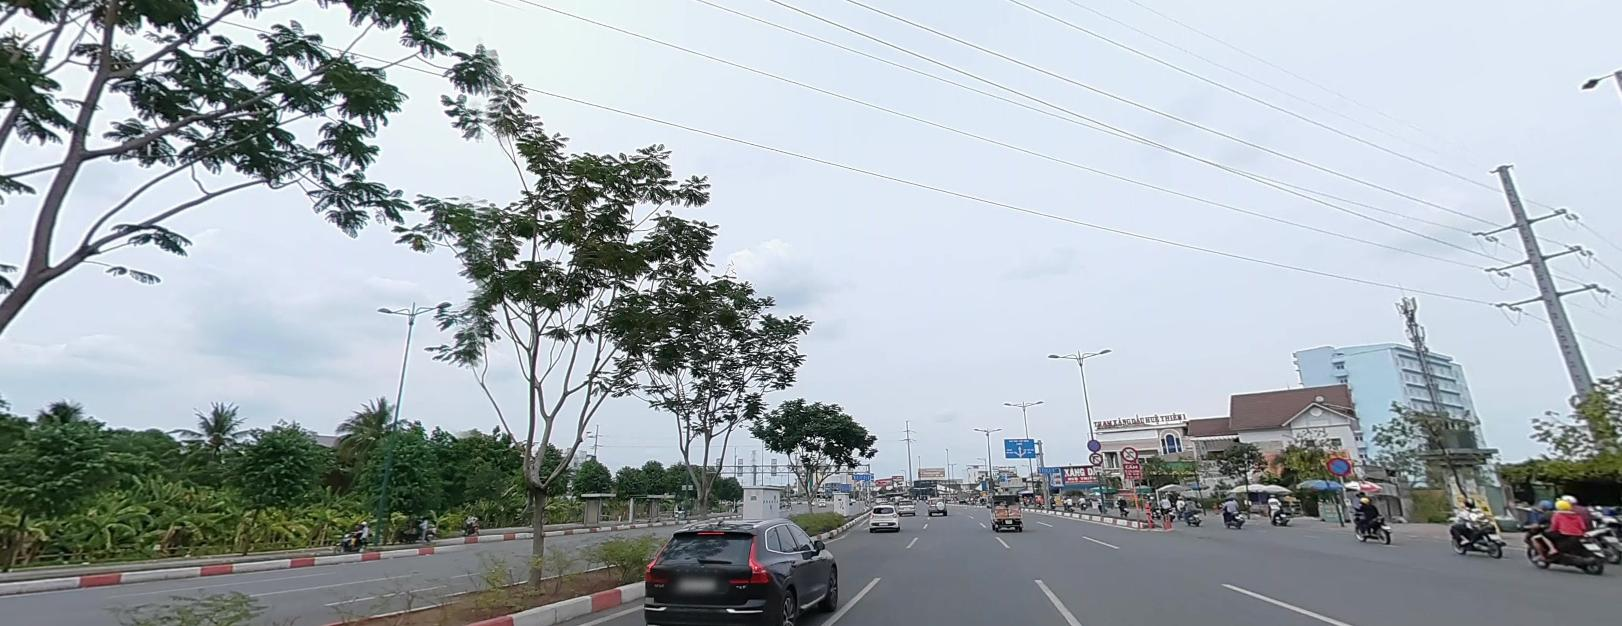Cam con lai: (1121, 446, 1138, 460)
Cam dung va do: (1327, 456, 1350, 475), (1086, 438, 1100, 450)
Cam re: (1088, 451, 1102, 463)
